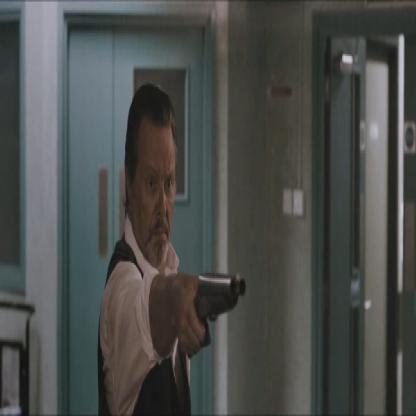Gun: (181, 270, 247, 353)
